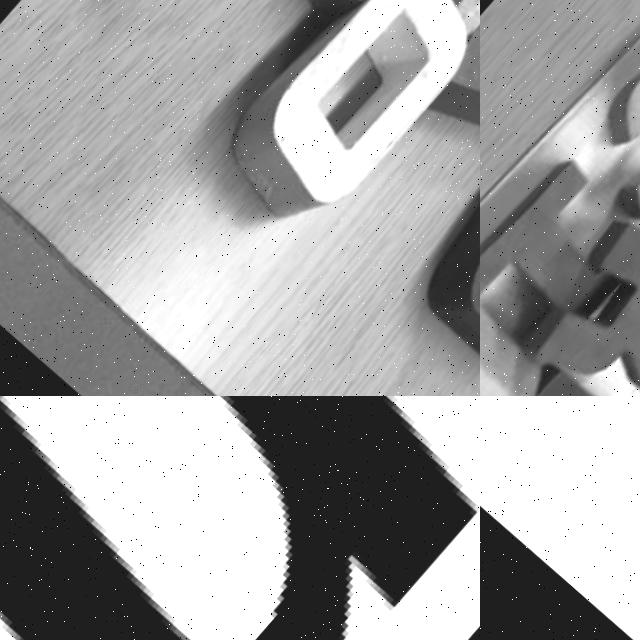C: (548, 0, 640, 249)
D: (480, 396, 640, 616)
I: (201, 0, 475, 38)
K: (513, 189, 640, 396)
N: (0, 396, 480, 640)
O: (396, 133, 480, 386)
Q: (198, 0, 480, 252)
